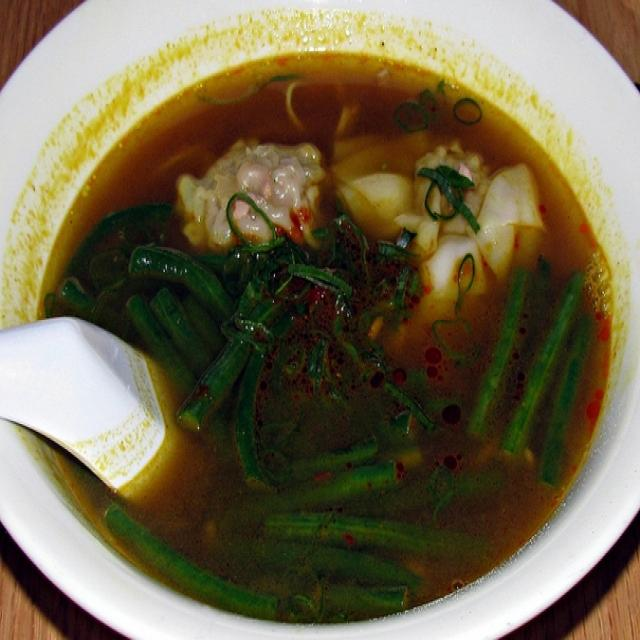汤锅炖物: (16, 16, 629, 615)
